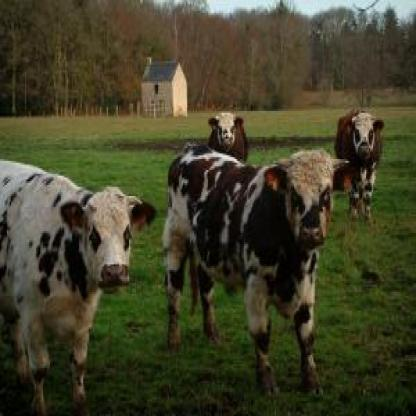cow: (164, 148, 349, 397), (0, 161, 155, 416), (336, 112, 384, 219), (208, 111, 250, 164)
